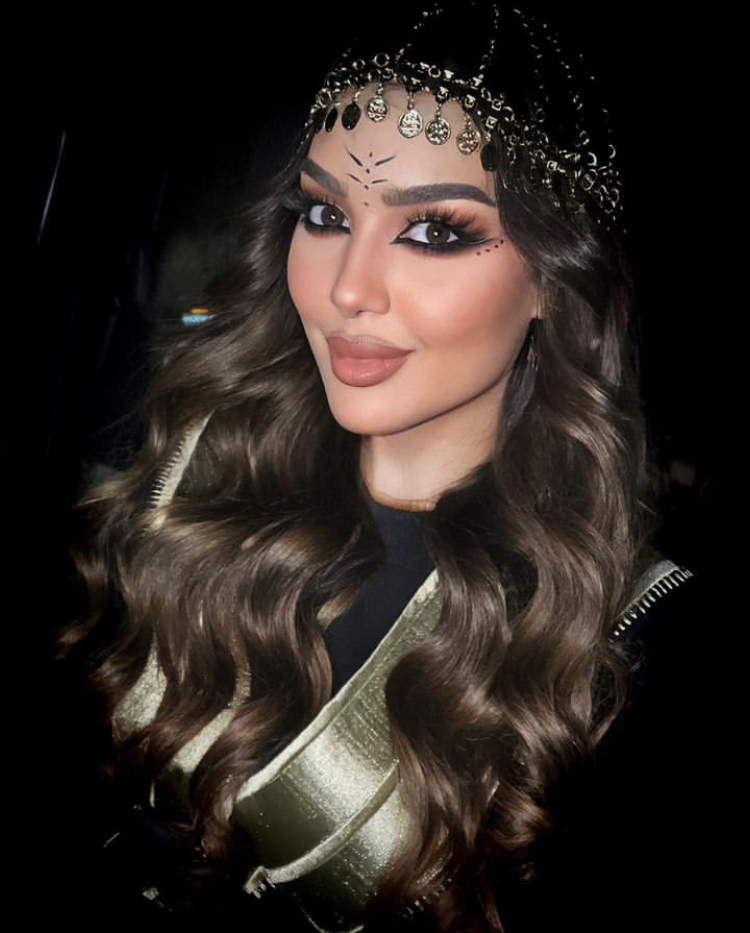Saudi_Founding_Day: (51, 2, 716, 933)
